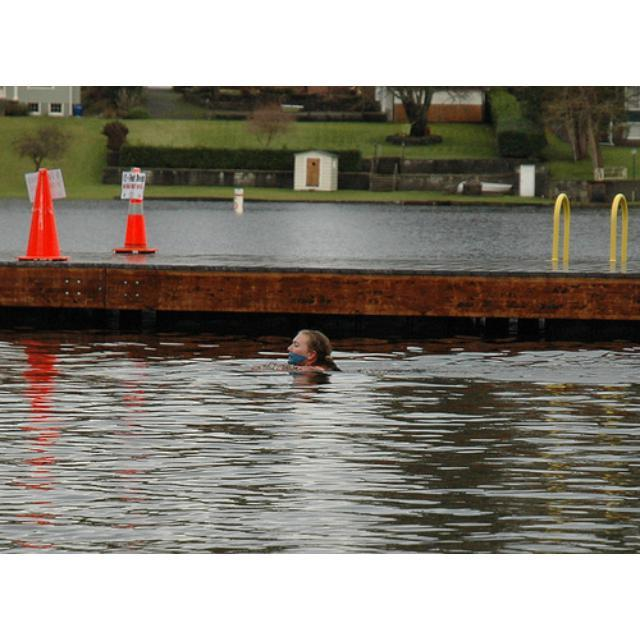human: (285, 328, 341, 377)
